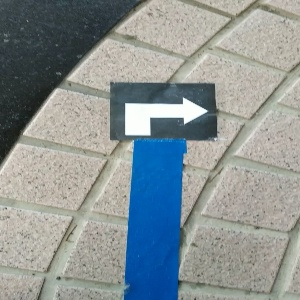right: (110, 80, 217, 140)
